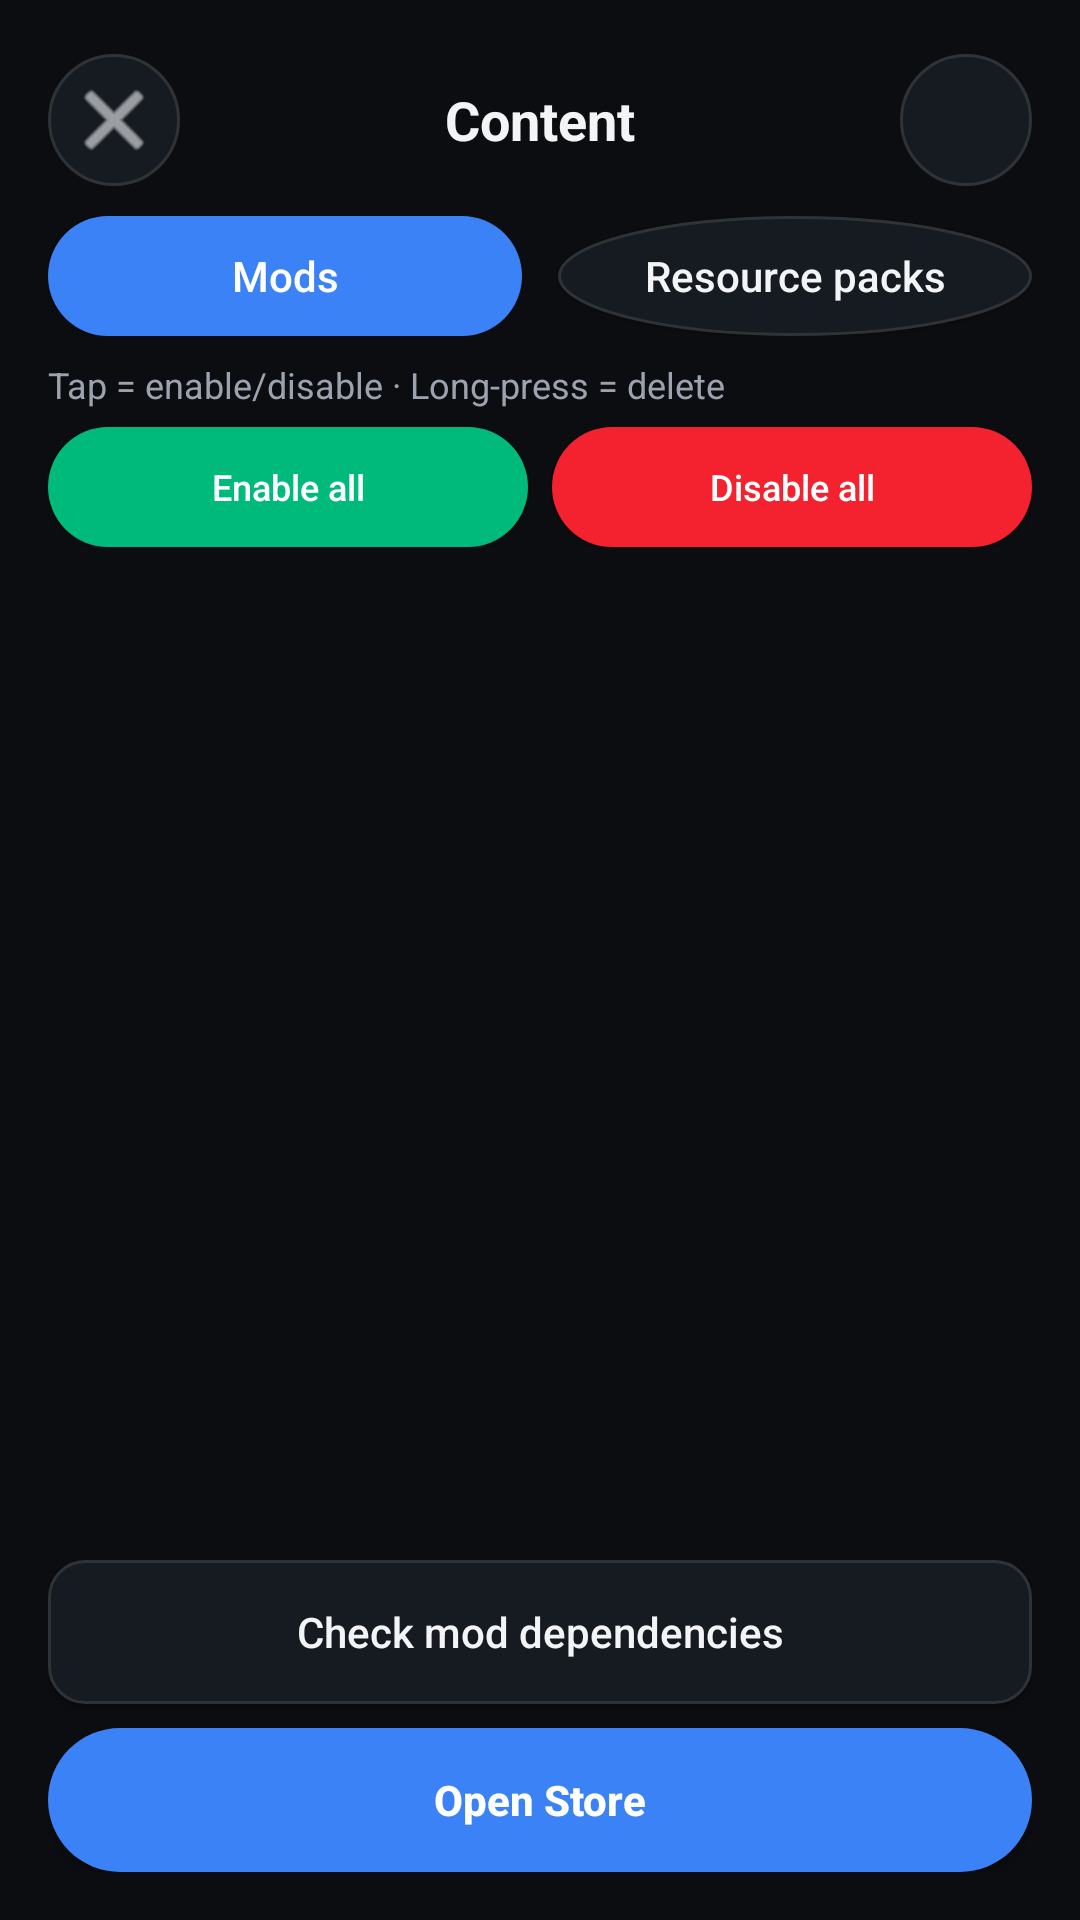

Point at icon controls on the screen. Image size 1080px×1920px, points as (x,y).
close clear cancel: (114,120)
